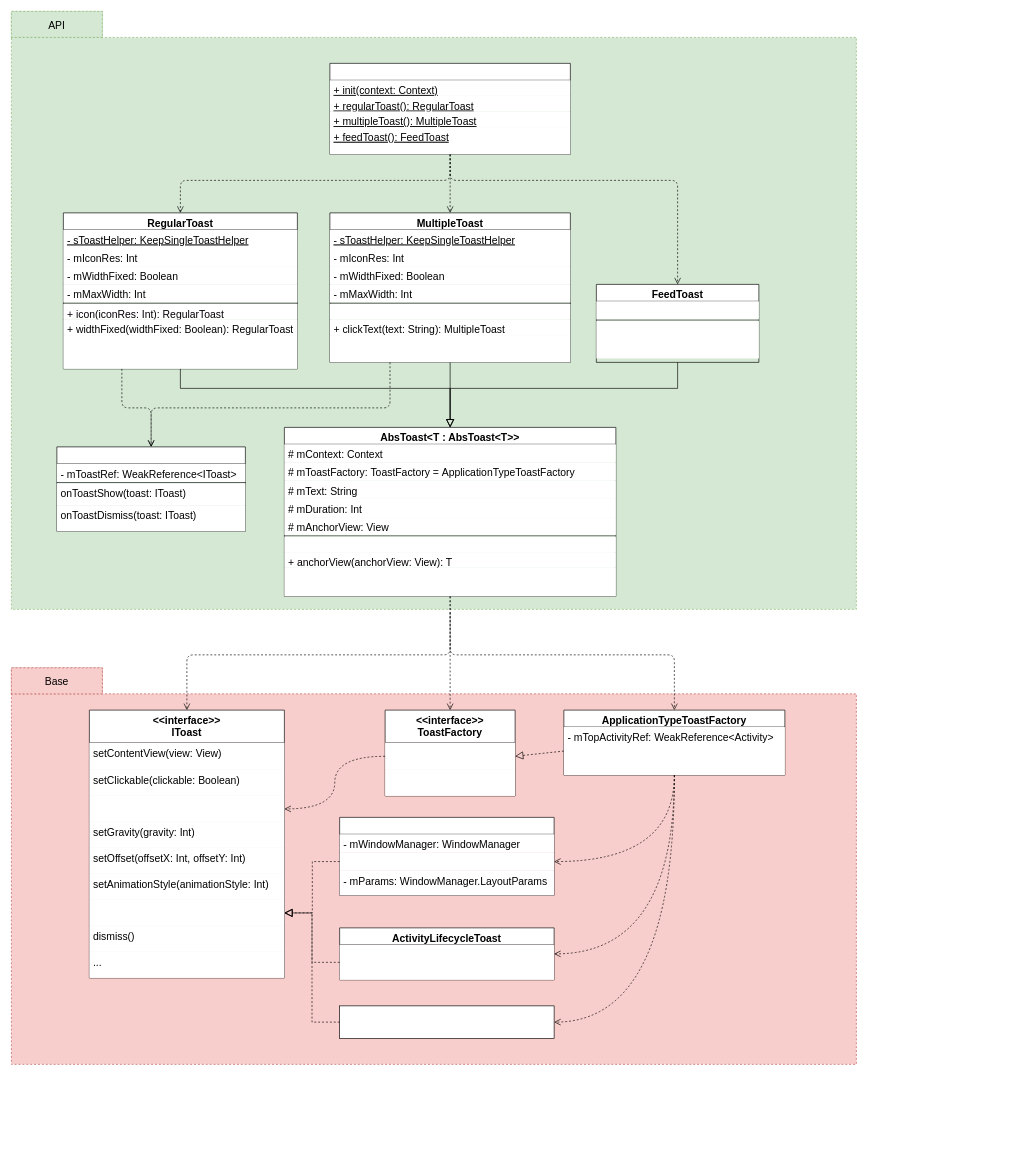
Image size: 1022x1165. Some labels were removed from this diagram. The shapes that lost their labels are listed below. From the top down, each one's box as (x1, y1, x2, y2) in pixels, then its label:
(329, 63, 570, 154): FtToast
(330, 304, 570, 319): + icon(iconRes: Int): MultipleToast
(596, 301, 759, 319): - mOffset: IntArray
(63, 335, 297, 369): + maxWidth(maxWidth: Int): RegularToast
(330, 335, 570, 362): + clickAction(action: () -> Unit): MultipleToast
(596, 320, 759, 358): + offset(x: Int, y: Int): FeedToast
(56, 446, 245, 531): KeepSingleToastHelper
(284, 536, 616, 552): + text(text: String): T
(284, 567, 616, 596): + show()
(385, 742, 515, 770): init(context: Context)
(385, 770, 515, 796): create(): IToast
(89, 796, 284, 822): setSize(width: Int, height: Int)
(339, 817, 554, 895): ApplicationTypeToast
(339, 852, 554, 870): - mContentView: View
(89, 900, 284, 926): show(): Boolean
(339, 944, 554, 980): - mToast: IToast
(339, 1005, 554, 1038): EmptyToast
